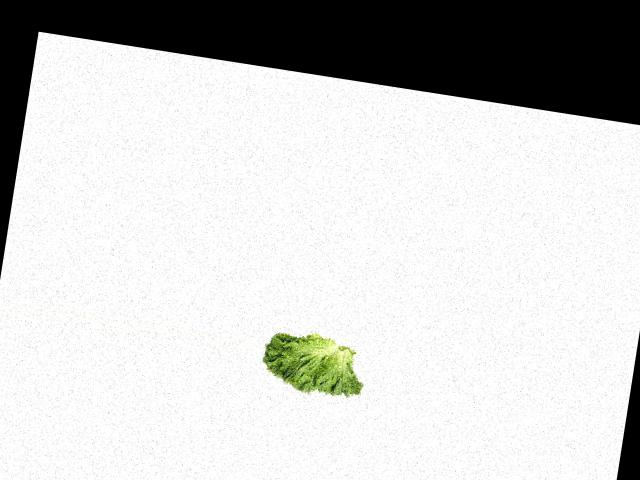lettuce: (256, 322, 369, 409)
